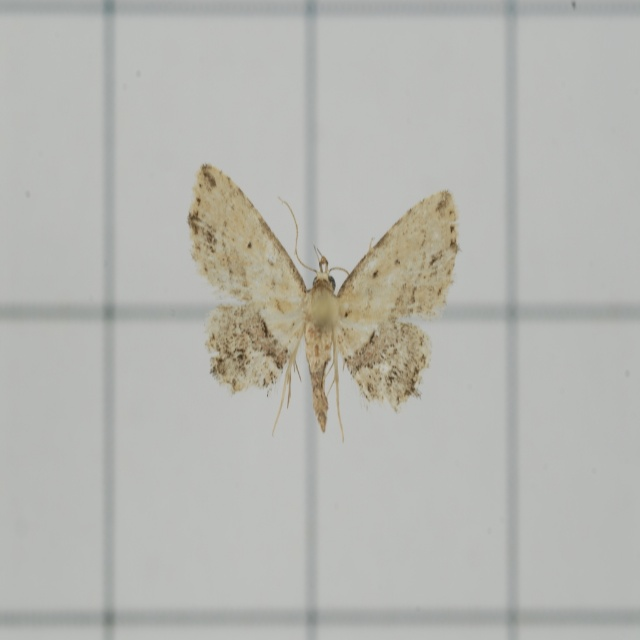Moths and butterflies: (179, 163, 463, 455)
